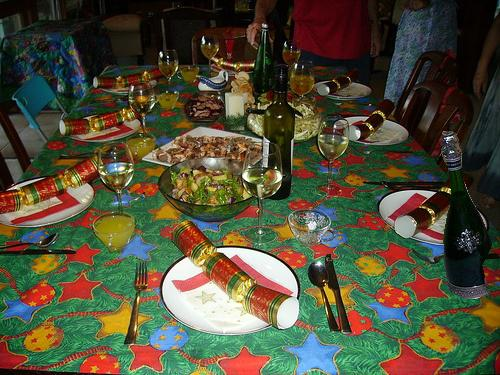tampered: (443, 132, 492, 299)
